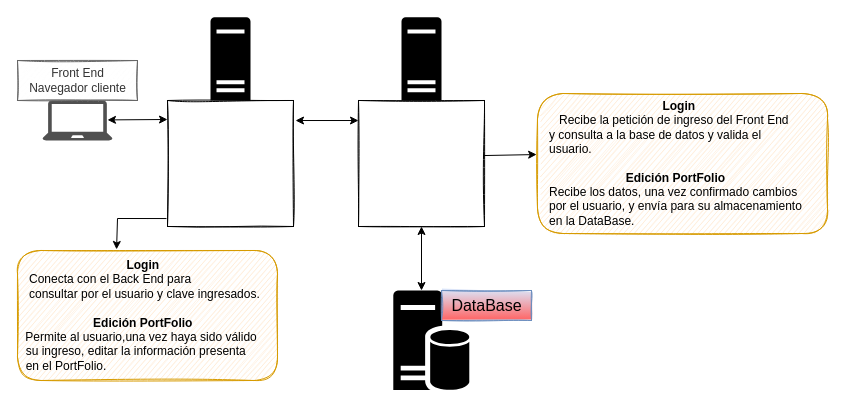
This 845x408 diagram has some shape labels left out. The shapes that lost their labels are listed below. From the top down, each one's box as (x1, y1, x2, y2) in pixels, then its label:
(166, 100, 294, 226): Front End * Login * Edición PortFolio
(358, 100, 484, 226): BackEnd * Login * Edición PortFolio
